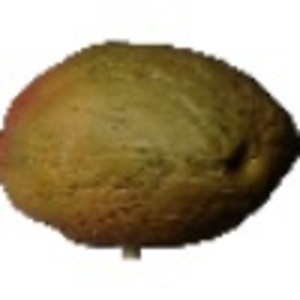mamão: (1, 34, 295, 248)
